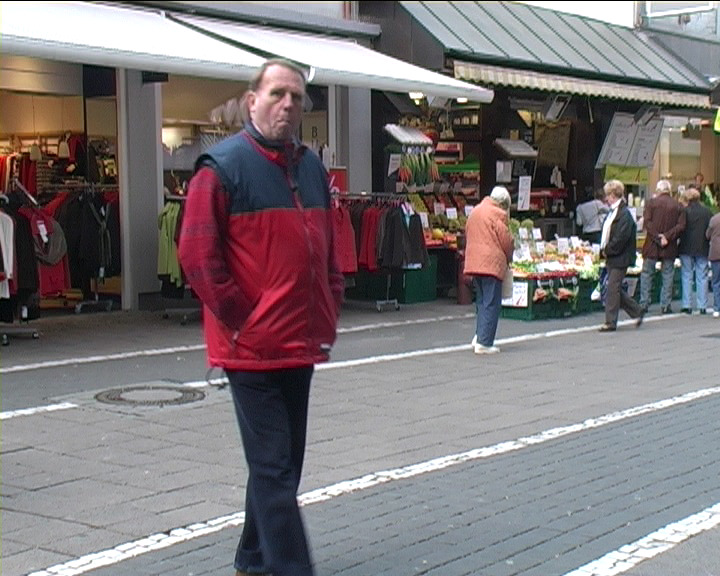deflection: (217, 60, 345, 204)
